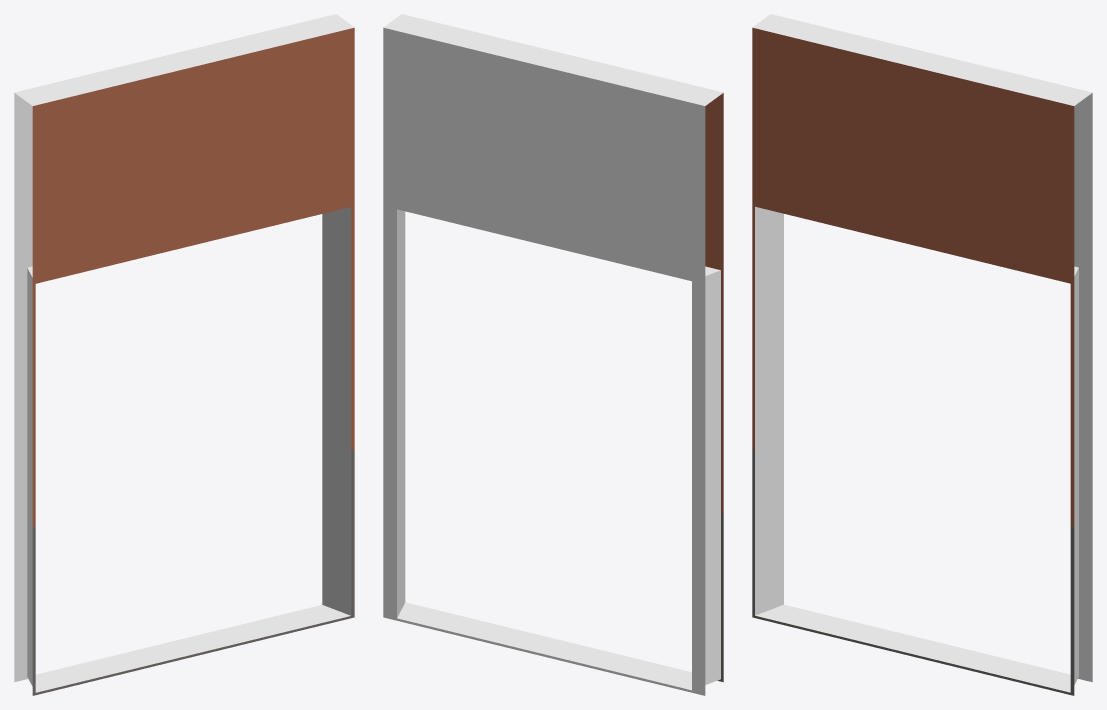
The model's file is SM_Outer_Wall_Door_200.FBX.
The picture shows the model from 3 angles, left to right: view 1: azimuth 30°, elevation 25°; view 2: azimuth 150°, elevation 25°; view 3: azimuth 330°, elevation 25°; orthographic projection.
Visible parts, largest first — view 1: SM_Outer_Wall_Door_200; view 2: SM_Outer_Wall_Door_200; view 3: SM_Outer_Wall_Door_200.
Part boxes in pixels (left/top/right/bottom): SM_Outer_Wall_Door_200: left=14, top=14, right=354, bottom=695; SM_Outer_Wall_Door_200: left=383, top=14, right=723, bottom=695; SM_Outer_Wall_Door_200: left=752, top=14, right=1092, bottom=695.
Bounding box in the file's own units: 200 × 20 × 350.
